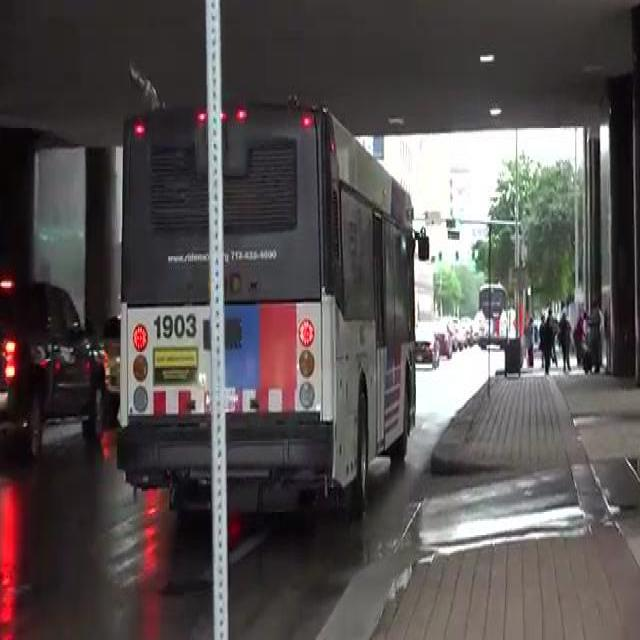motorcycle: (96, 117, 432, 503), (478, 275, 510, 353)
